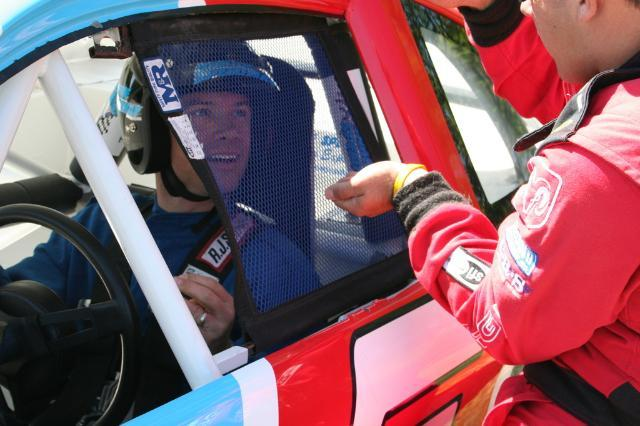SafeDriving: (190, 104, 213, 121)
Seatbelt: (36, 183, 153, 426)
